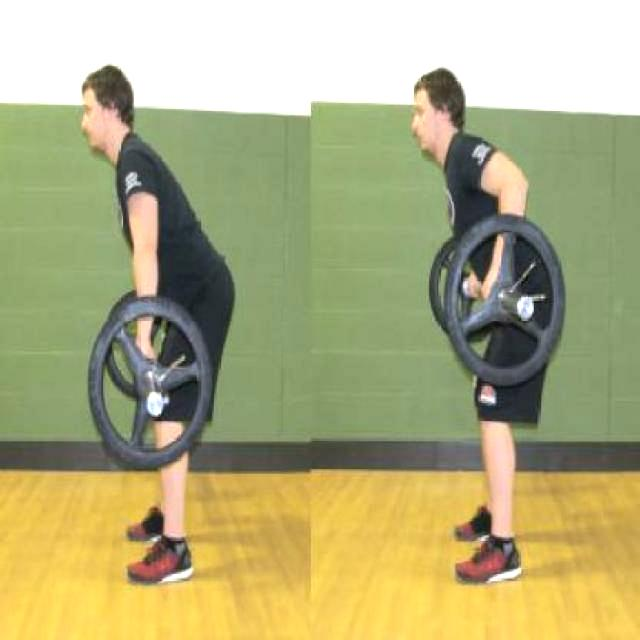barbell: (85, 295, 218, 475), (444, 212, 575, 390)
